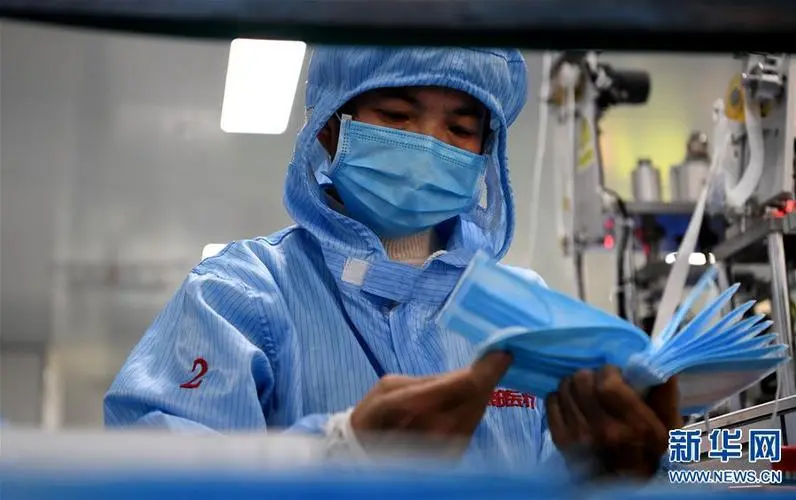withmask: (301, 29, 516, 252)
